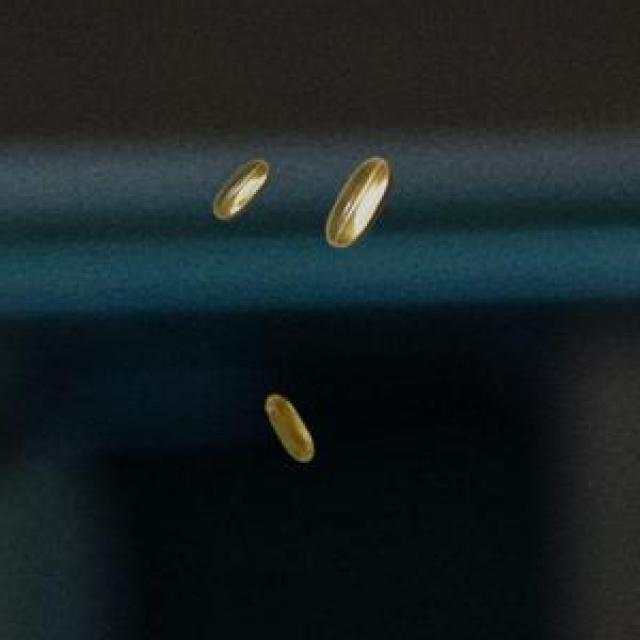Fish_Oil: (316, 142, 404, 258), (245, 382, 335, 473), (202, 152, 271, 230)
